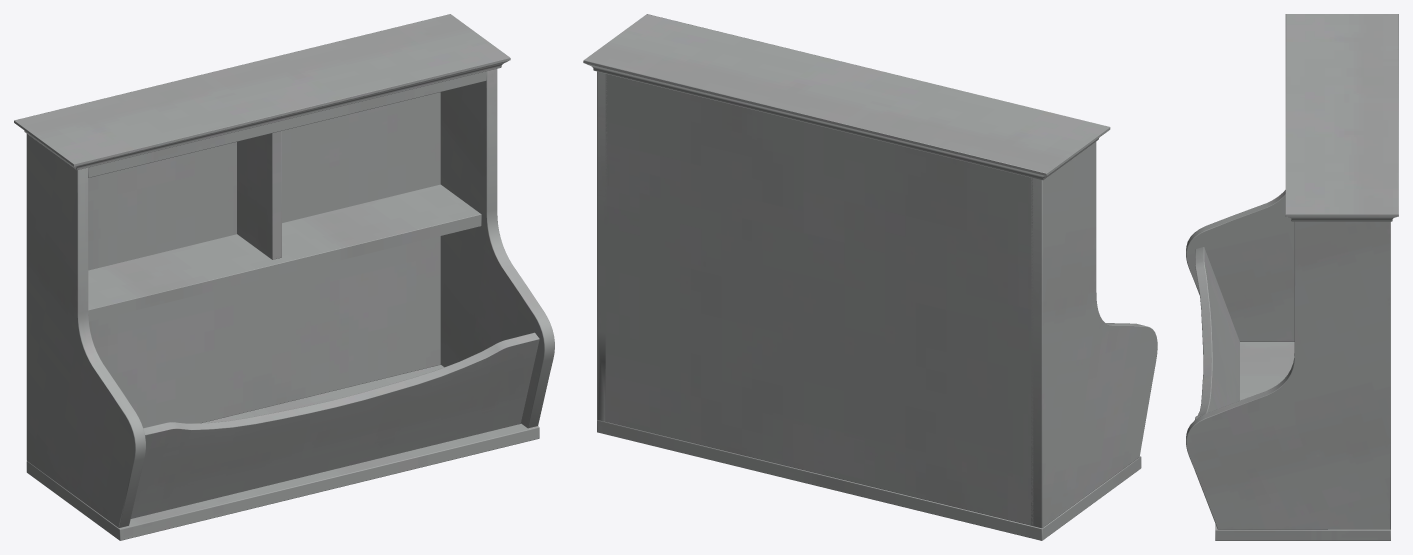
The model's file is toy_storage_abo_B07PGK6H8M.glb.
3 views of the same model, side by side, from view 1: azimuth 30°, elevation 25°; view 2: azimuth 150°, elevation 25°; view 3: azimuth 270°, elevation 25° (orthographic). The views are drawn at different scales.
Visible parts, largest first — view 1: Object001; view 2: Object001; view 3: Object001.
Boxes of the visible parts, <box> form: Object001: <box>14,14,554,540</box>; Object001: <box>583,14,1157,540</box>; Object001: <box>1186,14,1398,540</box>.
Bounding box in the file's own units: 0.78 × 0.6 × 0.35.
Materials: 1 (1 with a texture image).
